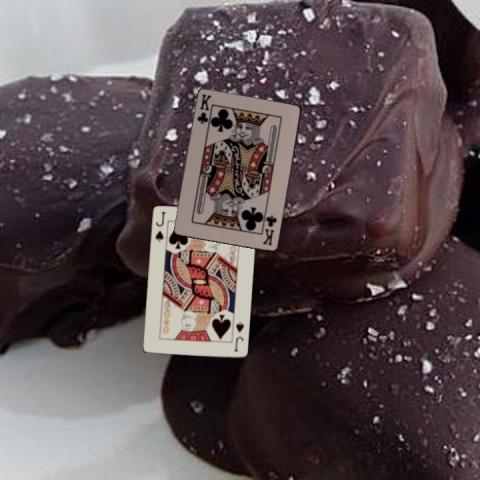Js: (152, 208, 166, 243), (230, 318, 244, 352)
Kc: (194, 92, 213, 126), (260, 212, 278, 247)
